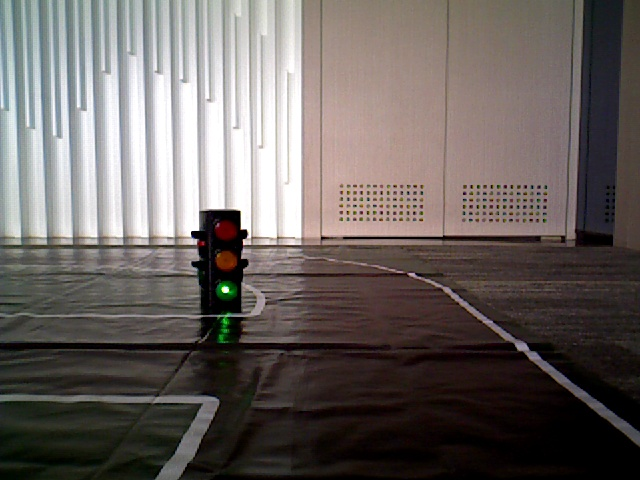green: (203, 217, 240, 307)
